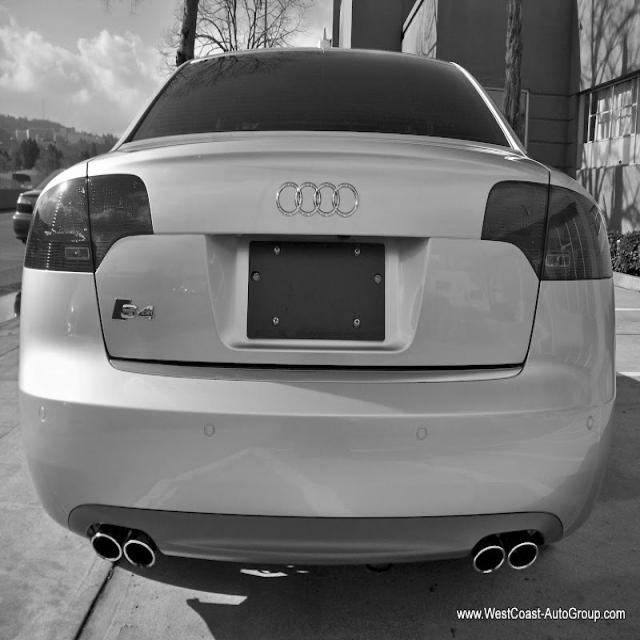car: (17, 39, 617, 575), (12, 168, 66, 243)
